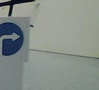right: (1, 22, 24, 57)
